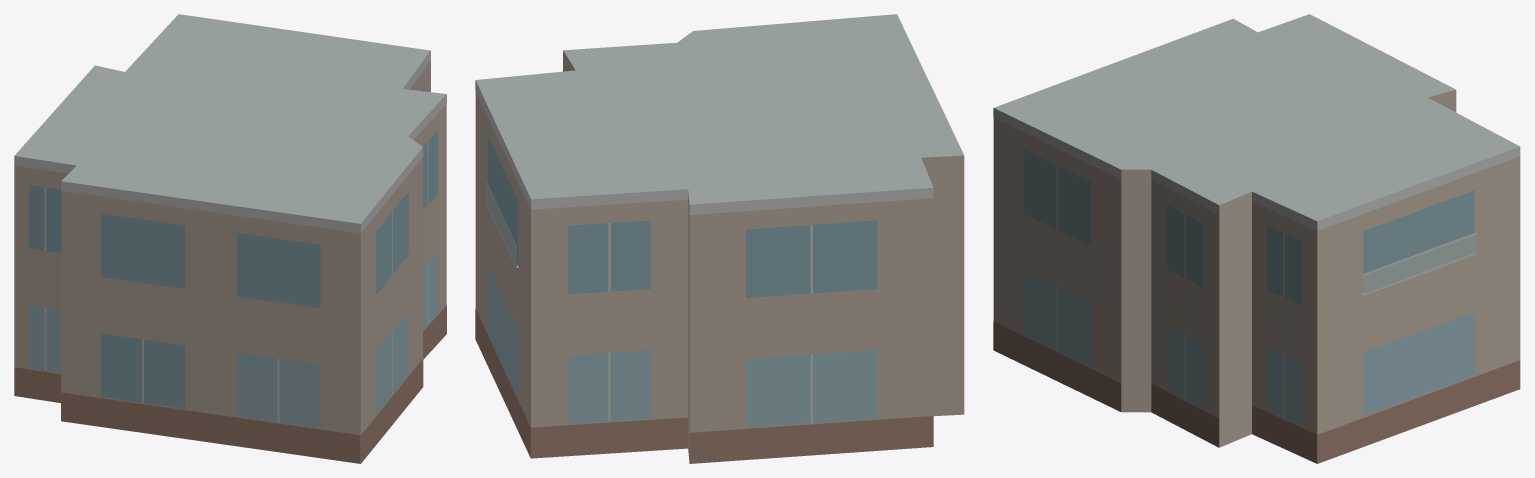
File: survey-upis-32534474.glb
3 views of the same model, side by side, from view 1: azimuth 30°, elevation 25°; view 2: azimuth 150°, elevation 25°; view 3: azimuth 270°, elevation 25° (orthographic). The views are drawn at different scales.
Visible parts, largest first — view 1: survey-upis-32534474.tmp; view 2: survey-upis-32534474.tmp; view 3: survey-upis-32534474.tmp.
Boxes of the visible parts, x1,y1,x2,y2 form: survey-upis-32534474.tmp: [14, 14, 446, 463]; survey-upis-32534474.tmp: [475, 14, 964, 463]; survey-upis-32534474.tmp: [993, 14, 1520, 463].
Bounding box in the file's own units: 11.19 × 6.1 × 12.02.
